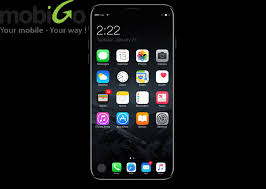iphone: (88, 3, 177, 179)
iphone10: (86, 5, 175, 181)
